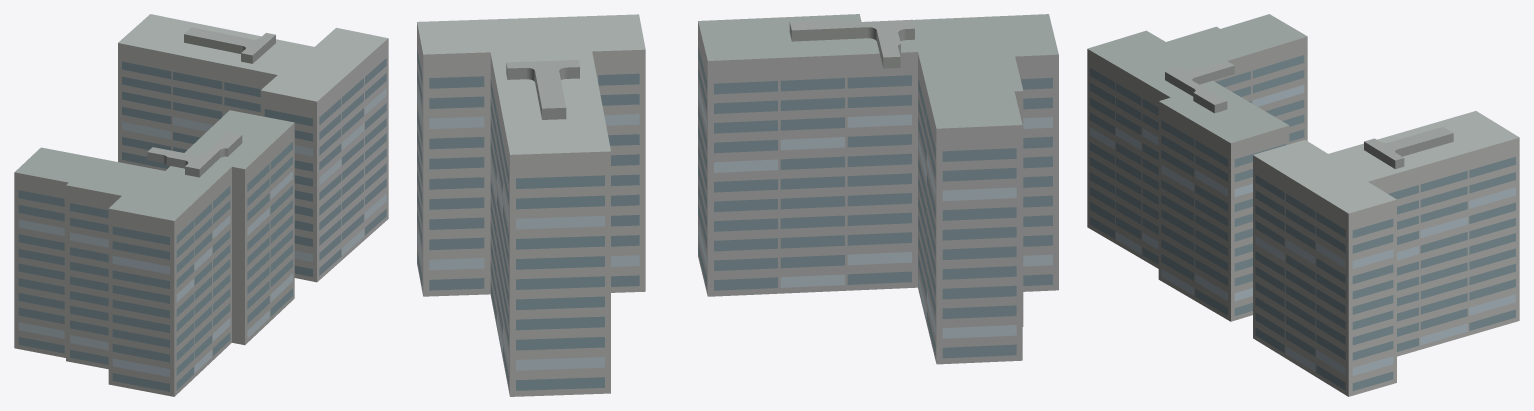
The model's file is apt-a13120701.glb.
3 views of the same model, side by side, from view 1: azimuth 30°, elevation 25°; view 2: azimuth 150°, elevation 25°; view 3: azimuth 270°, elevation 25° (orthographic). The views are drawn at different scales.
Parts seen in each view (by area): view 1: apt-a13120701; view 2: apt-a13120701; view 3: apt-a13120701.
Boxes of the visible parts, x1,y1,x2,y2 form: apt-a13120701: (14, 14, 388, 396); apt-a13120701: (417, 14, 1058, 396); apt-a13120701: (1087, 14, 1519, 396).
Size of the model in its own units: 86.8 by 38 by 77.6.
